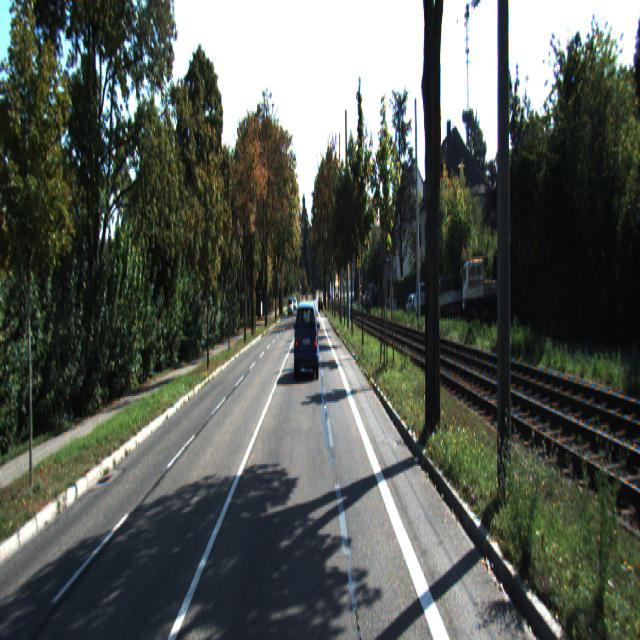Car: (462, 254, 506, 328), (294, 299, 320, 382), (434, 275, 462, 324), (414, 280, 433, 316)
